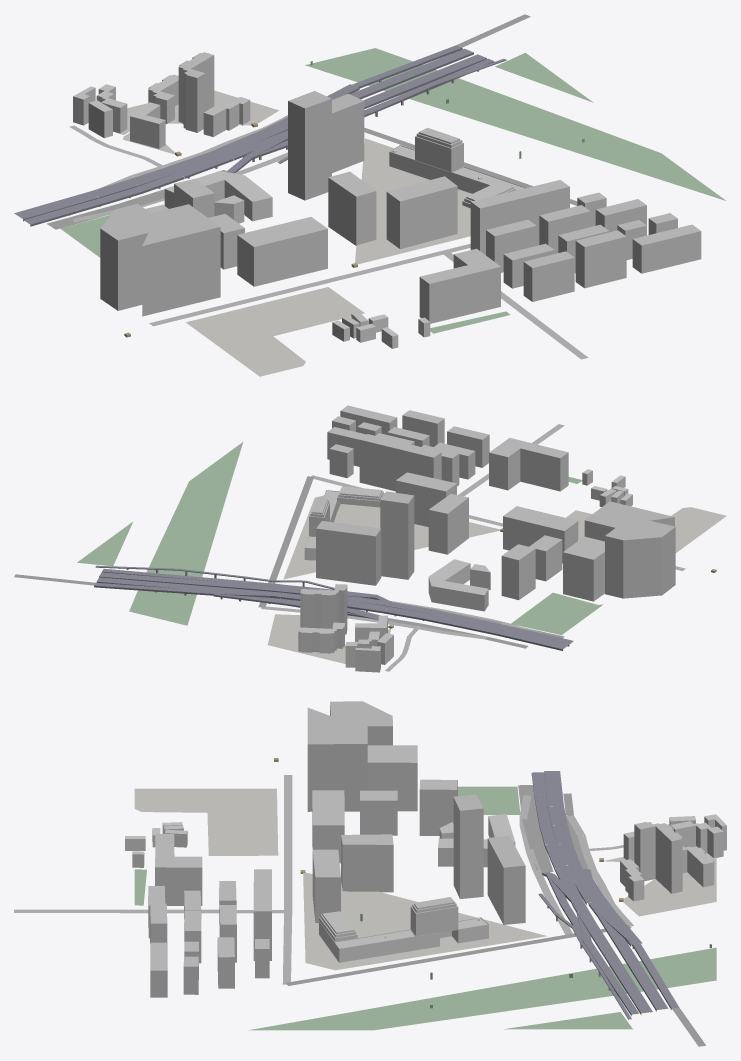
3 views of the same model, one above another, from view 1: azimuth 30°, elevation 25°; view 2: azimuth 150°, elevation 25°; view 3: azimuth 270°, elevation 25° (orthographic). The views are drawn at different scales.
Bounding box in the file's own units: 595 × 86.21 × 612.
